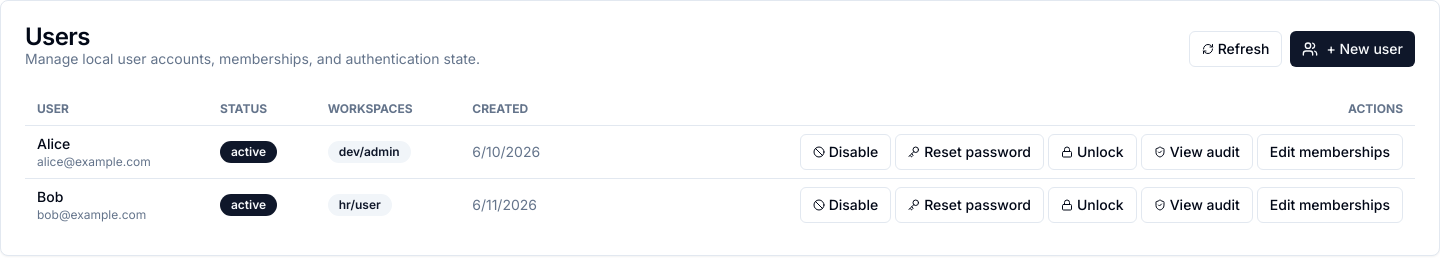
Test: UsersPanel › disables then re-enables a user via round-trip
This screenshot has width=1440, height=273.
Note: Disable: local state update (no server re-fetch)
Click the button with test id "admin-disable-user-1".
click(845, 152)  # box [800,134,891,170]
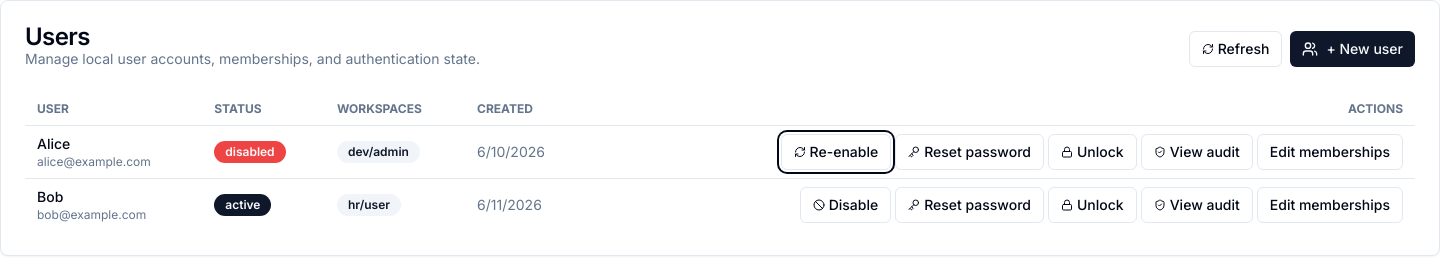
Expected: the button with test id "admin-enable-user-1" is shown
Note: Re-enable: local state update
Click the button with test id "admin-enable-user-1".
click(836, 152)  # box [781,134,891,170]
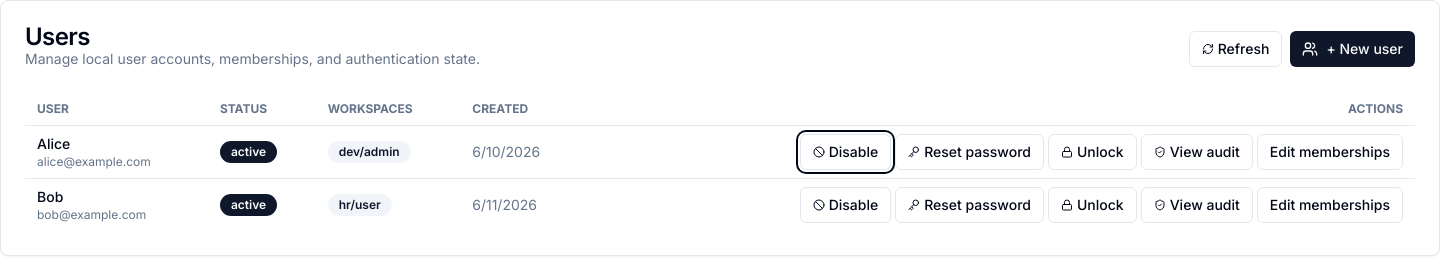
Expected: the button with test id "admin-disable-user-1" is shown, [800,134,891,170]
